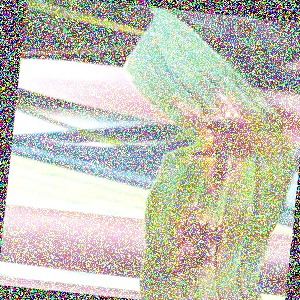Brown_Spot: (170, 198, 239, 276), (201, 93, 249, 147), (205, 140, 251, 190)
